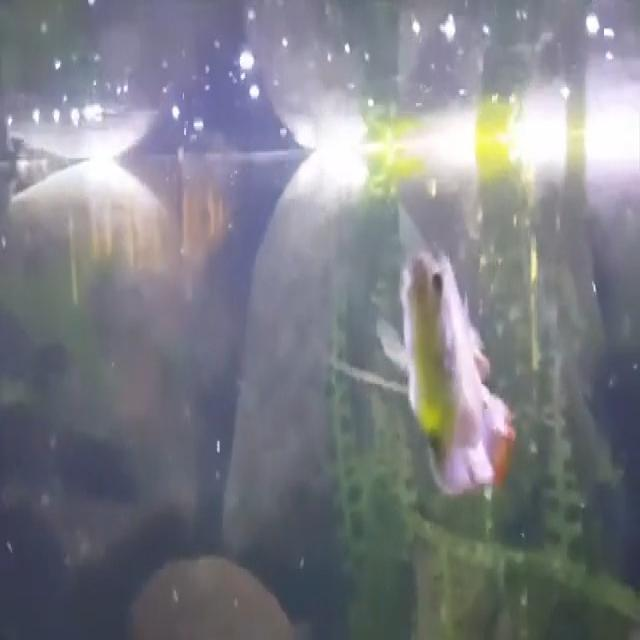fish: (396, 226, 516, 493)
